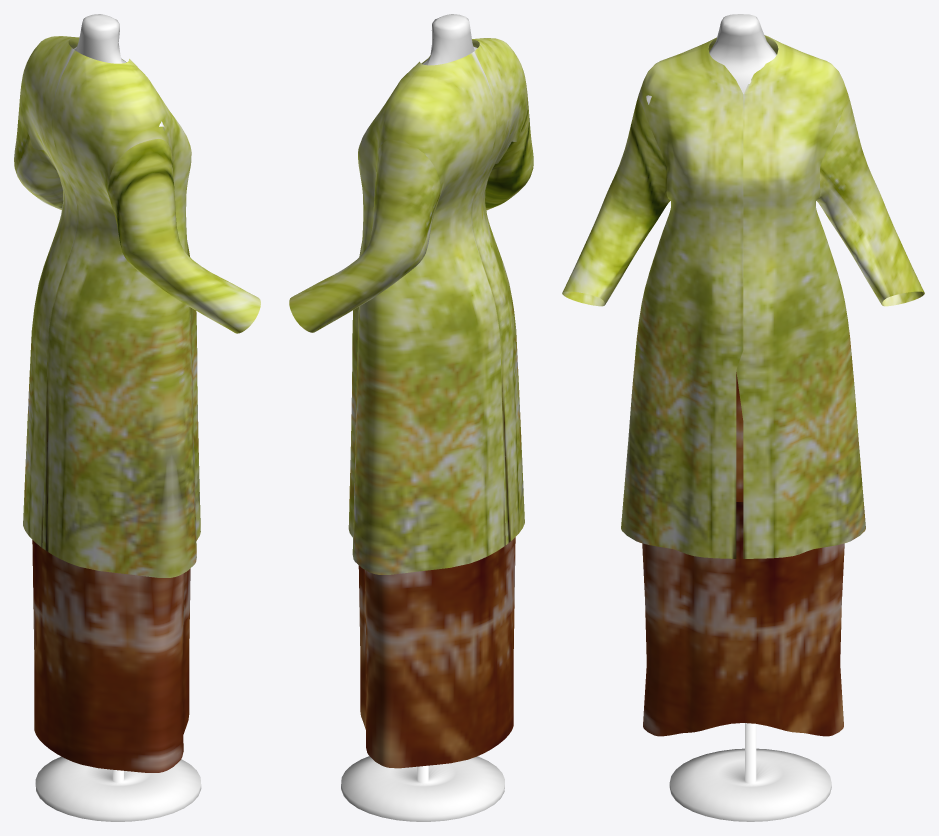
File: kebaya_labuh_batik.glb
3 views of the same model, side by side, from view 1: azimuth 30°, elevation 25°; view 2: azimuth 150°, elevation 25°; view 3: azimuth 270°, elevation 25° (orthographic). The views are drawn at different scales.
Parts seen in each view (by area): view 1: 3.004_lambert6.001_0, 1.040_Patung.014_0, 1.044_Patung.014_0; view 2: 3.004_lambert6.001_0, 1.040_Patung.014_0, 1.044_Patung.014_0; view 3: 3.004_lambert6.001_0, 1.040_Patung.014_0, 1.044_Patung.014_0.
Boxes of the visible parts, x1,y1,x2,y2 form: 3.004_lambert6.001_0: (14,36,260,772); 1.040_Patung.014_0: (35,756,201,821); 1.044_Patung.014_0: (74,14,164,130); 3.004_lambert6.001_0: (289,38,533,768); 1.040_Patung.014_0: (341,756,504,821); 1.044_Patung.014_0: (422,14,477,65); 3.004_lambert6.001_0: (562,35,924,736); 1.040_Patung.014_0: (669,723,831,821); 1.044_Patung.014_0: (646,14,776,104).
Bounding box in the file's own units: 33.6 × 165 × 71.38.
Materials: 2 (2 with a texture image).
